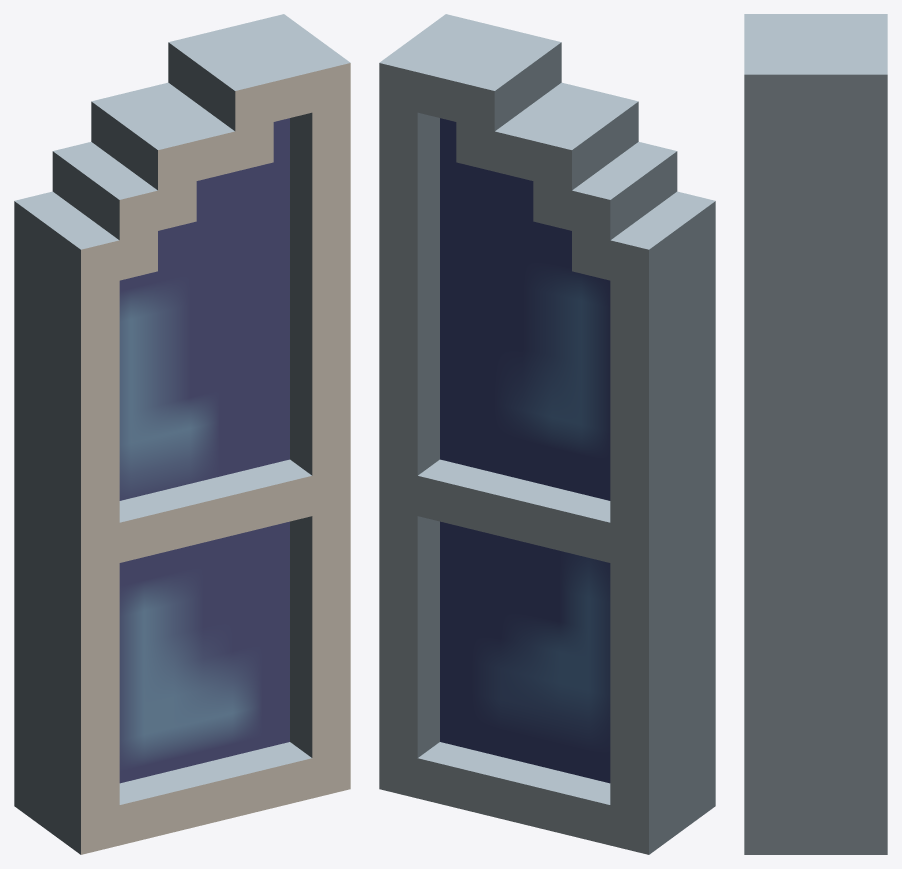
File: DoorD_L.fbx
The picture shows the model from 3 angles, left to right: view 1: azimuth 30°, elevation 25°; view 2: azimuth 150°, elevation 25°; view 3: azimuth 270°, elevation 25°; orthographic projection. The views are drawn at different scales.
Parts seen in each view (by area): view 1: DoorD_L; view 2: DoorD_L; view 3: DoorD_L.
Part boxes in pixels (x1,y1,x2,y2): DoorD_L: [14, 14, 350, 854]; DoorD_L: [379, 14, 715, 854]; DoorD_L: [744, 14, 887, 854].
Size of the model in its own units: 7 by 18 by 3.
